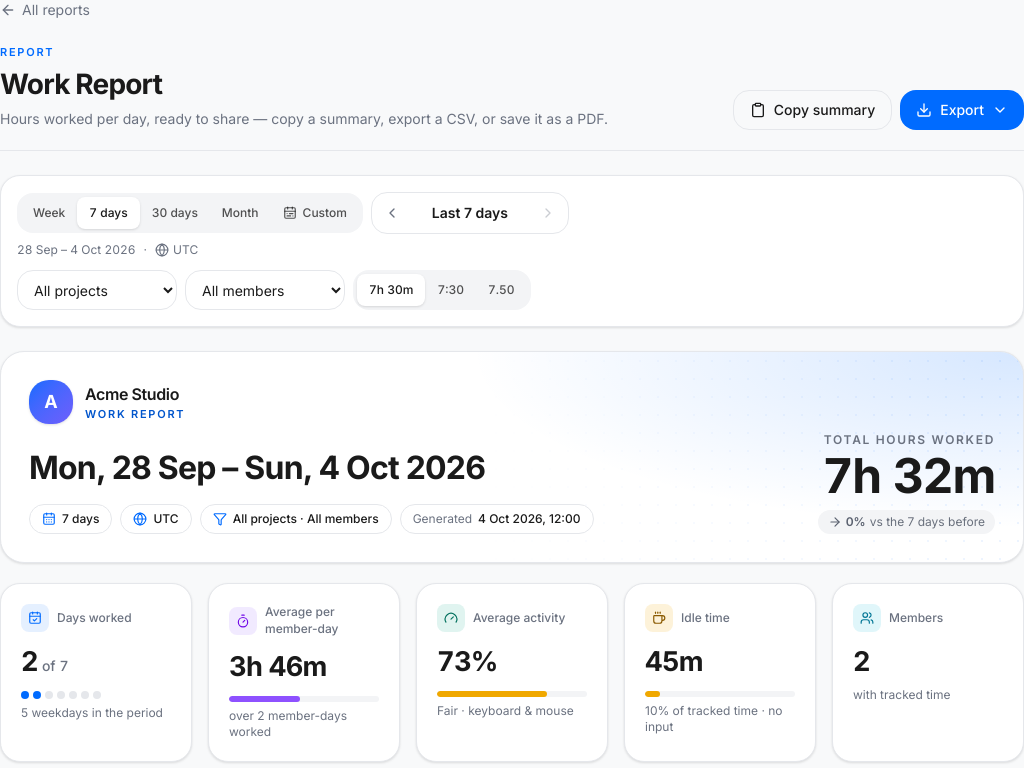
Test: Work Report (live) › switches period in one click and steps back with the arrows
This screenshot has width=1024, height=768.
Expected: the button named "Next period" is disabled, [532,197,564,229]
Click the button "Month". click: click(240, 213)
box: [210,197,271,229]
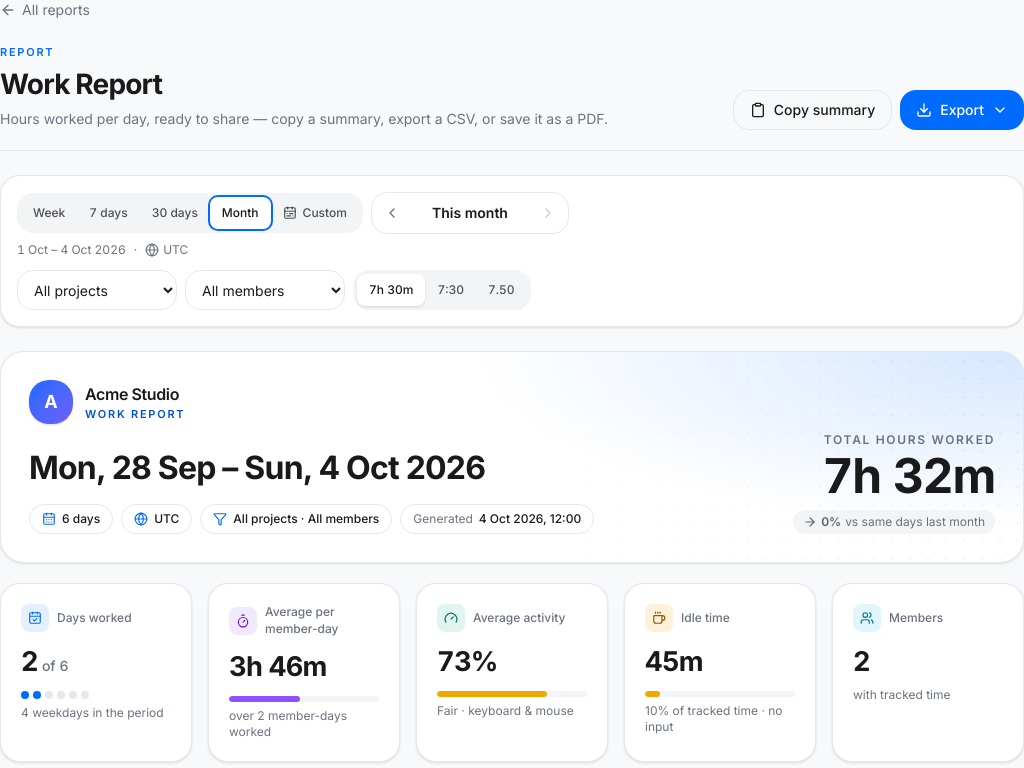
Expected: the text "This month" is shown, [432,204,508,221]
Click the button named "Previous period". click: click(392, 213)
box: [376,197,408,229]
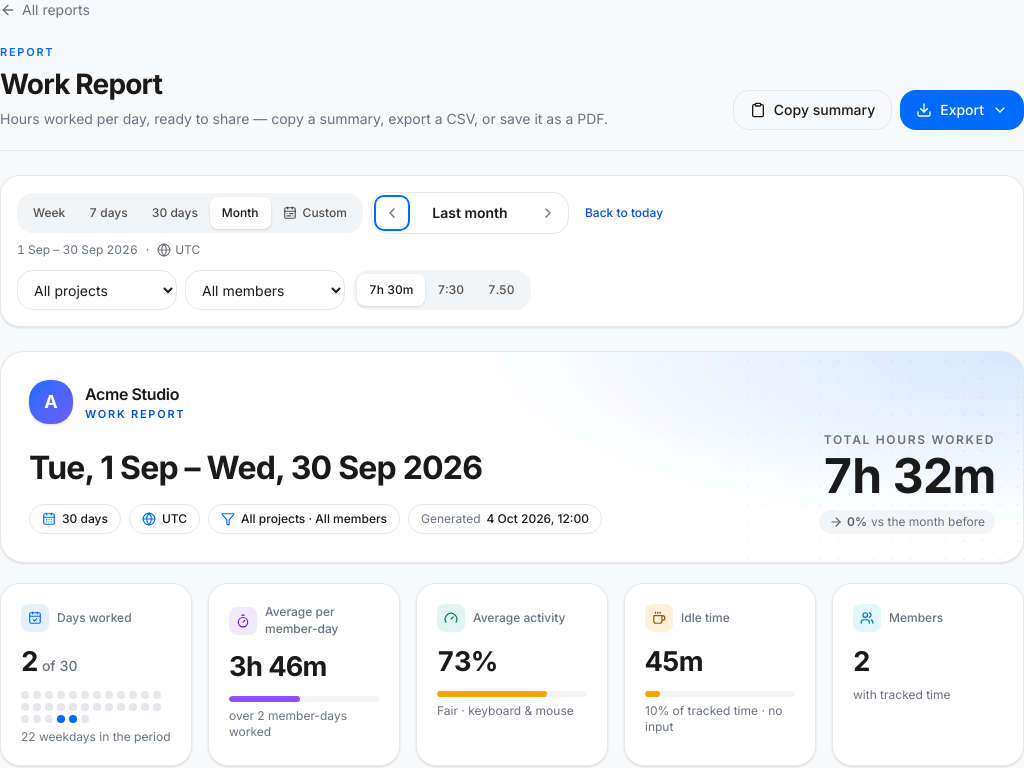
Expected: the button named "Next period" is enabled, [532,197,564,229]
Expected: the text "Last month" is shown, [432,204,508,221]
Click the button "Back to today". click: click(624, 213)
box: [577,201,671,225]
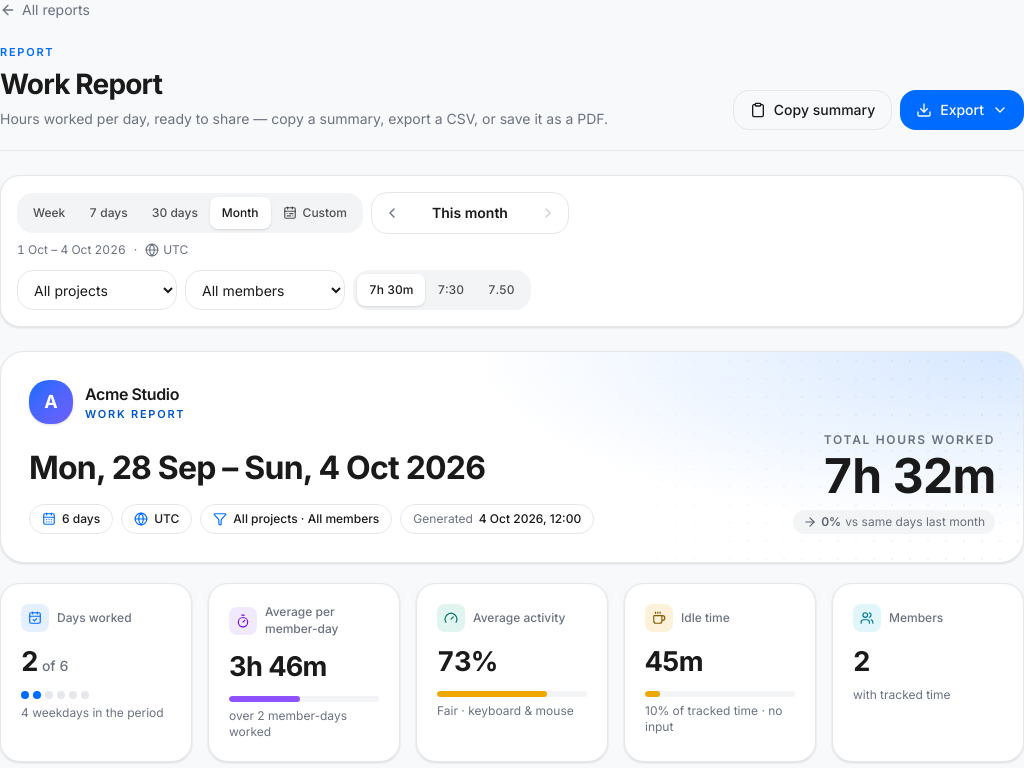
Expected: the text "This month" is shown, [432,204,508,221]
